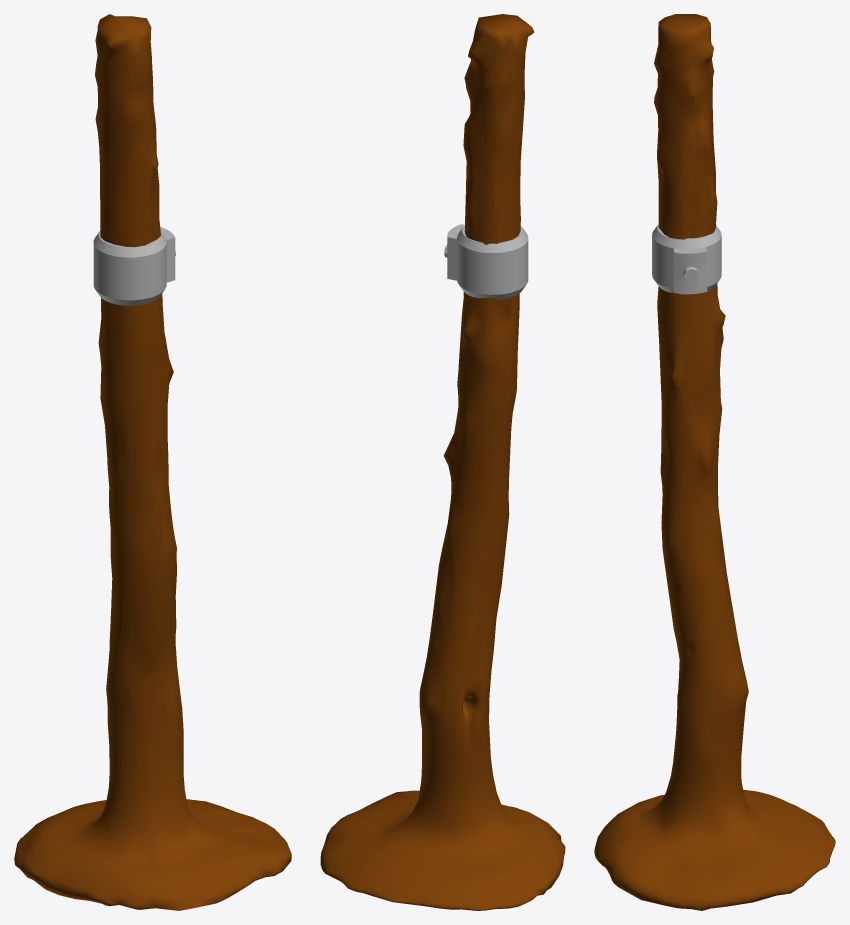
3 renders of one model, left to right at view 1: azimuth 30°, elevation 25°; view 2: azimuth 150°, elevation 25°; view 3: azimuth 270°, elevation 25°, orthographic. The views are drawn at different scales.
Parts seen in each view (by area): view 1: AnotherTrunk333.exported, Circle; view 2: AnotherTrunk333.exported, Circle; view 3: AnotherTrunk333.exported, Circle.
Part boxes in pixels (left/top/right/bottom): AnotherTrunk333.exported: left=14, top=14, right=291, bottom=910; Circle: left=93, top=227, right=176, bottom=305; AnotherTrunk333.exported: left=320, top=14, right=565, bottom=910; Circle: left=444, top=224, right=528, bottom=299; AnotherTrunk333.exported: left=594, top=14, right=835, bottom=910; Circle: left=652, top=224, right=721, bottom=294.
Size of the model in its own units: 110 by 389 by 104.
